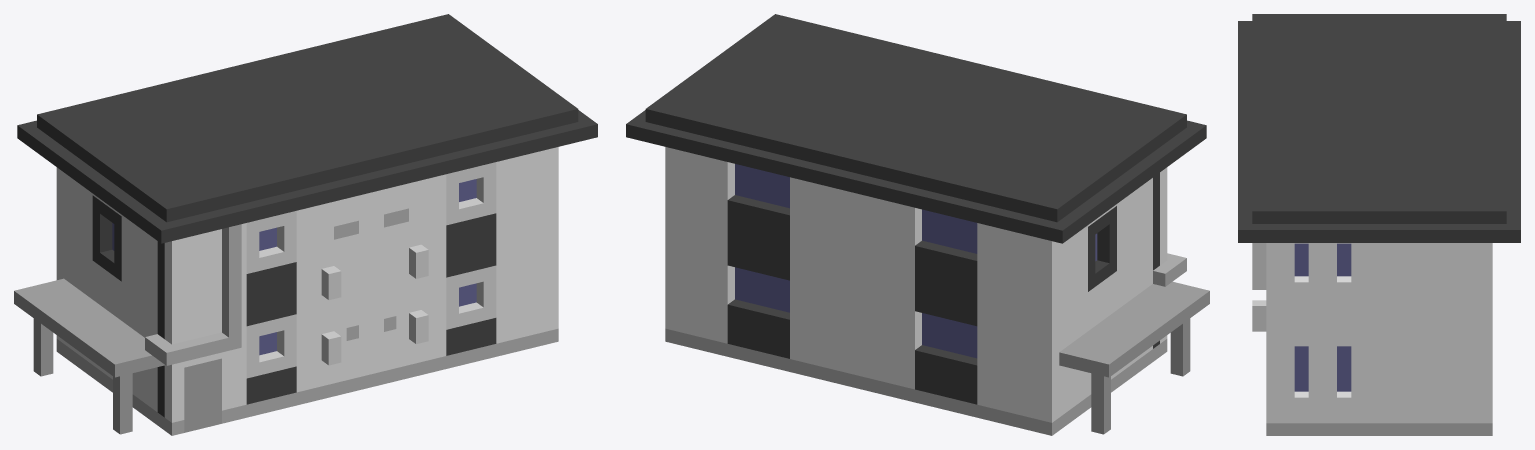
File: yoshida29.fbx
The picture shows the model from 3 angles, left to right: view 1: azimuth 30°, elevation 25°; view 2: azimuth 150°, elevation 25°; view 3: azimuth 270°, elevation 25°; orthographic projection.
Visible parts, largest first — view 1: Default; view 2: Default; view 3: Default.
Part boxes in pixels (<box>): Default: <box>14,14,597,435</box>; Default: <box>626,14,1209,435</box>; Default: <box>1238,14,1520,435</box>.
Bounding box in the file's own units: 37 × 18 × 20.
1 material, 1 textured.
